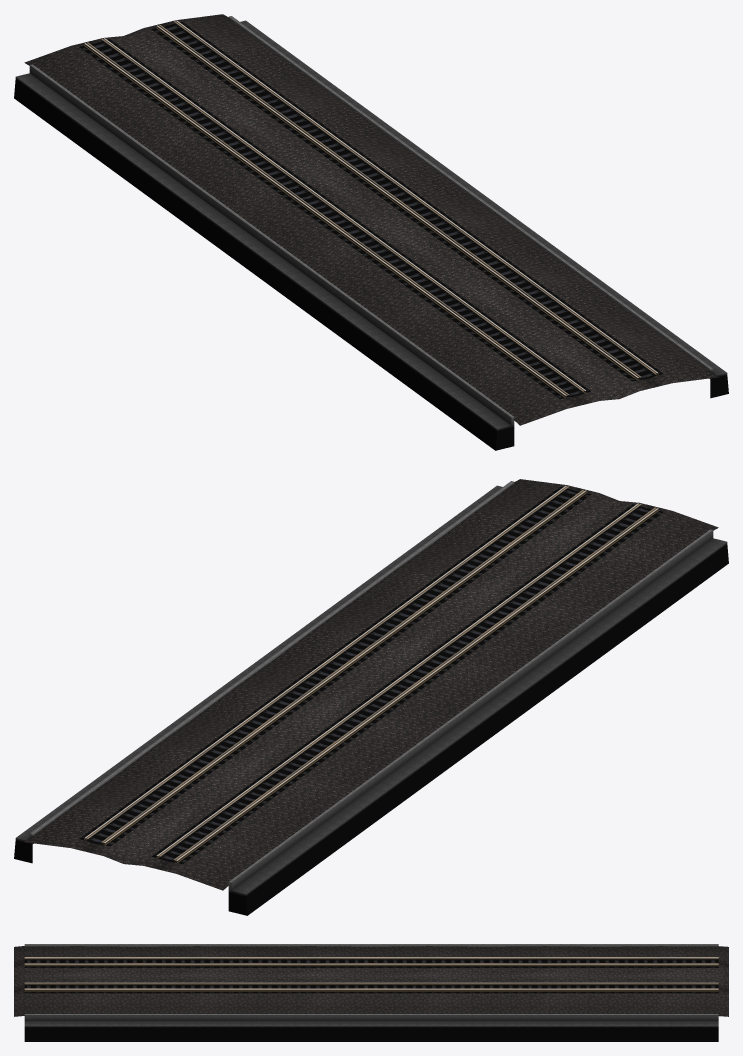
File: MEI_2RAIL_150.glb
3 renders of one model, top to bottom at view 1: azimuth 30°, elevation 25°; view 2: azimuth 150°, elevation 25°; view 3: azimuth 270°, elevation 25°, orthographic. The views are drawn at different scales.
Parts seen in each view (by area): view 1: LeftWall3, R000_RG_R3, R000_RG_L3; view 2: LeftWall3, R000_RG_R3, R000_RG_L3; view 3: LeftWall3, R000_RG_R3, R000_RG_L3.
Part boxes in pixels (x1,y1,x2,y2): LeftWall3: (14,14,728,450); R000_RG_R3: (86,24,640,396); R000_RG_L3: (101,21,655,391); LeftWall3: (14,479,728,915); R000_RG_R3: (101,490,656,861); R000_RG_L3: (86,486,641,857); LeftWall3: (14,944,728,1041); R000_RG_R3: (24,957,718,984); R000_RG_L3: (24,963,718,989).
Bounding box in the file's own units: 42 × 6.55 × 155.
Materials: 7 (6 with a texture image).
